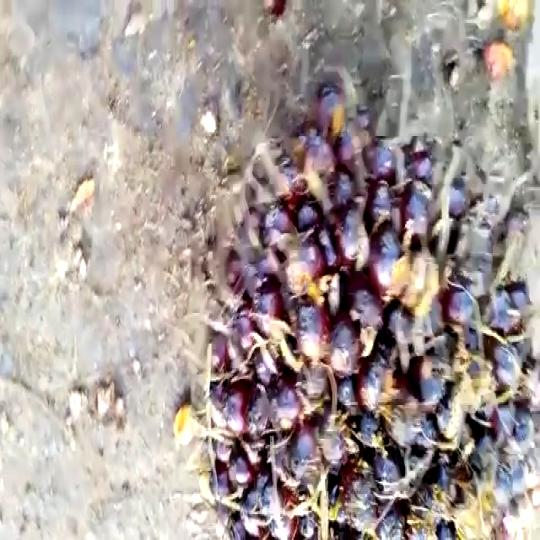kurang masak: (207, 121, 540, 538)
